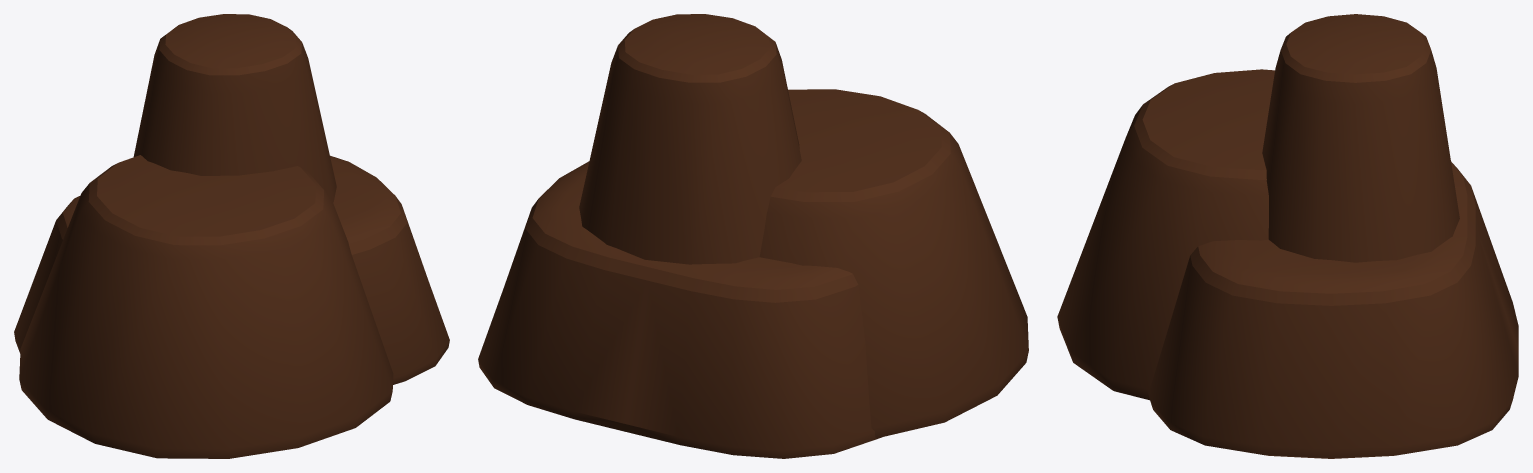
Rendered from RockPlatforms_3.fbx.
3 renders of one model, left to right at view 1: azimuth 30°, elevation 25°; view 2: azimuth 150°, elevation 25°; view 3: azimuth 270°, elevation 25°, orthographic. The views are drawn at different scales.
Parts seen in each view (by area): view 1: RockPlatforms_3; view 2: RockPlatforms_3; view 3: RockPlatforms_3.
Boxes of the visible parts, <box> form: RockPlatforms_3: <box>14,14,449,458</box>; RockPlatforms_3: <box>478,14,1028,458</box>; RockPlatforms_3: <box>1057,14,1518,458</box>.
Size of the model in its own units: 600 by 438 by 544.
